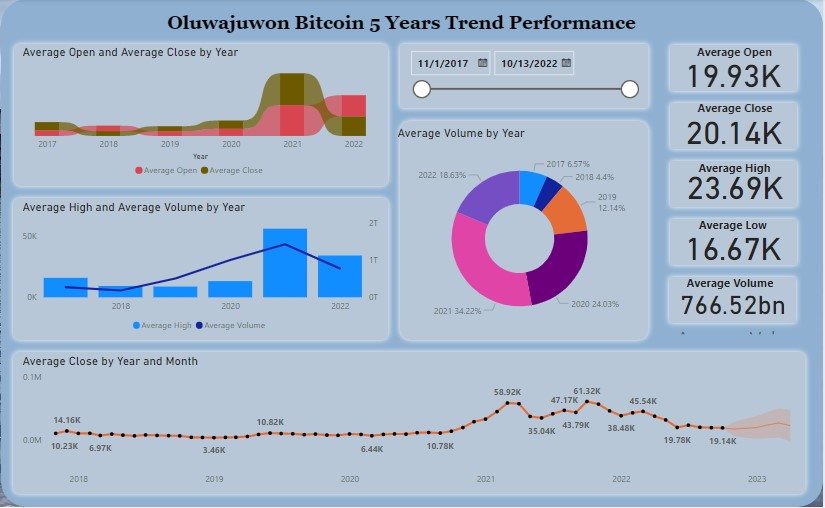

The page's visual inventory and layout, read from the dashboard file:
{"tool":"powerbi","page":{"name":"Page 1","canvas":[1280,720],"ordinal":0},"visuals":[{"type":"shape","box":[114.8,0,1165,720],"z":0},{"type":"shape","box":[124.7,55.3,547.1,218.3],"z":1000},{"type":"shape","box":[123.3,273.5,548.5,218.3],"z":2000},{"type":"shape","box":[123.3,491.8,1139.5,218.3],"z":3000},{"type":"shape","box":[671.8,164.4,368.5,327.4],"z":4000},{"type":"shape","box":[671.8,55.3,368.5,107.7],"z":5000},{"type":"shape","box":[1054.5,56.7,197,82.2],"z":6000},{"type":"shape","box":[1054.5,138.9,197,82.2],"z":7000},{"type":"shape","box":[1054.5,221.1,197,82.2],"z":8000},{"type":"shape","box":[1054.5,303.3,197,82.2],"z":9000},{"type":"shape","box":[1053.1,385.5,197,82.2],"z":10000},{"type":"ribbonChart","fields":{"Category":["BTC-FIVE-YEARS-DATA.Date.Variation.Date Hierarchy.Year"],"Y":["BTC-FIVE-YEARS-DATA.Average Open","BTC-FIVE-YEARS-DATA.Average Close"]},"box":[140.3,65.2,514.5,195.6],"z":11000},{"type":"lineStackedColumnComboChart","fields":{"Category":["BTC-FIVE-YEARS-DATA.Date.Variation.Date Hierarchy.Year"],"Y2":["BTC-FIVE-YEARS-DATA.Average Volume"],"Y":["BTC-FIVE-YEARS-DATA.Average High"]},"box":[140.3,284.9,514.5,195.6],"z":12000},{"type":"donutChart","fields":{"Category":["BTC-FIVE-YEARS-DATA.Date.Variation.Date Hierarchy.Year"],"Y":["BTC-FIVE-YEARS-DATA.Average Volume"]},"box":[671.8,180,355.7,300.5],"z":13000},{"type":"slicer","fields":{"Values":["BTC-FIVE-YEARS-DATA.Date"]},"box":[683.1,63.8,344.4,90.7],"z":14000},{"type":"card","fields":{"Values":["BTC-FIVE-YEARS-DATA.Average Open"]},"box":[1067.2,83.6,170.1,62.4],"z":15000},{"type":"card","fields":{"Values":["BTC-FIVE-YEARS-DATA.Average Close"]},"box":[1068.7,164.4,170.1,62.4],"z":16000},{"type":"card","fields":{"Values":["BTC-FIVE-YEARS-DATA.Average High"]},"box":[1070.1,242.4,170.1,62.4],"z":17000},{"type":"card","fields":{"Values":["BTC-FIVE-YEARS-DATA.Average Low"]},"box":[1067.2,328.8,170.1,62.4],"z":18000},{"type":"card","fields":{"Values":["BTC-FIVE-YEARS-DATA.Average Volume"]},"box":[1067.2,415.3,170.1,65.2],"z":19000},{"type":"textbox","box":[1068.7,58.1,171.5,51],"z":20000},{"type":"textbox","box":[1081.4,137.5,147.4,51],"z":21000},{"type":"textbox","box":[1085.7,222.5,137.5,51],"z":22000},{"type":"textbox","box":[1085.7,303.3,133.2,51],"z":23000},{"type":"textbox","box":[1081.4,385.5,133.2,51],"z":24000},{"type":"lineChart","fields":{"Y":["BTC-FIVE-YEARS-DATA.Average Close"],"Category":["BTC-FIVE-YEARS-DATA.Date.Variation.Date Hierarchy.Year","BTC-FIVE-YEARS-DATA.Date.Variation.Date Hierarchy.Month"]},"box":[140.3,503.1,1111.2,195.6],"z":25000},{"type":"textbox","box":[248,14.2,868.8,51],"z":26000}]}

Visuals, with their boxes on the page's 1280x720 design canvas (x1, y1, x2, y2). These are canvas units, not pixel positions in the 825x508 screenshot, which may show the page scaled, cropped or inside an application window:
shape: left=115, top=0, right=1280, bottom=720
shape: left=125, top=55, right=672, bottom=274
shape: left=123, top=274, right=672, bottom=492
shape: left=123, top=492, right=1263, bottom=710
shape: left=672, top=164, right=1040, bottom=492
shape: left=672, top=55, right=1040, bottom=163
shape: left=1054, top=57, right=1252, bottom=139
shape: left=1054, top=139, right=1252, bottom=221
shape: left=1054, top=221, right=1252, bottom=303
shape: left=1054, top=303, right=1252, bottom=386
shape: left=1053, top=386, right=1250, bottom=468
ribbonChart - BTC-FIVE-YEARS-DATA.Date.Variation.Date Hierarchy.Year x BTC-FIVE-YEARS-DATA.Average Open: left=140, top=65, right=655, bottom=261
lineStackedColumnComboChart - BTC-FIVE-YEARS-DATA.Date.Variation.Date Hierarchy.Year x BTC-FIVE-YEARS-DATA.Average Volume: left=140, top=285, right=655, bottom=480
donutChart - BTC-FIVE-YEARS-DATA.Date.Variation.Date Hierarchy.Year x BTC-FIVE-YEARS-DATA.Average Volume: left=672, top=180, right=1028, bottom=480
slicer - BTC-FIVE-YEARS-DATA.Date: left=683, top=64, right=1028, bottom=154
card - BTC-FIVE-YEARS-DATA.Average Open: left=1067, top=84, right=1237, bottom=146
card - BTC-FIVE-YEARS-DATA.Average Close: left=1069, top=164, right=1239, bottom=227
card - BTC-FIVE-YEARS-DATA.Average High: left=1070, top=242, right=1240, bottom=305
card - BTC-FIVE-YEARS-DATA.Average Low: left=1067, top=329, right=1237, bottom=391
card - BTC-FIVE-YEARS-DATA.Average Volume: left=1067, top=415, right=1237, bottom=480
textbox: left=1069, top=58, right=1240, bottom=109
textbox: left=1081, top=138, right=1229, bottom=188
textbox: left=1086, top=222, right=1223, bottom=274
textbox: left=1086, top=303, right=1219, bottom=354
textbox: left=1081, top=386, right=1215, bottom=436
lineChart - BTC-FIVE-YEARS-DATA.Average Close x BTC-FIVE-YEARS-DATA.Date.Variation.Date Hierarchy.Year: left=140, top=503, right=1252, bottom=699
textbox: left=248, top=14, right=1117, bottom=65
